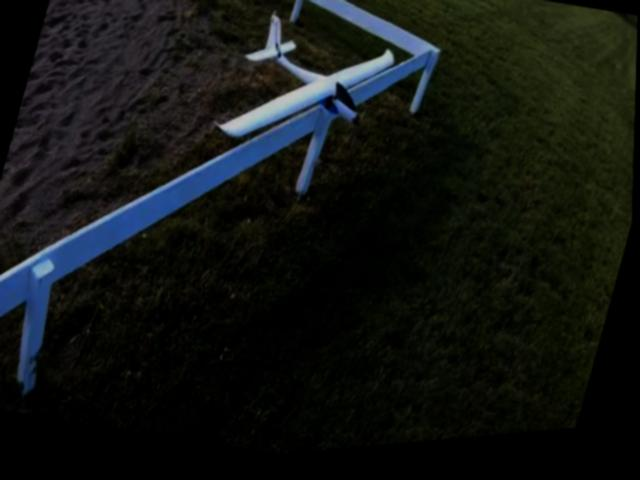iha: (207, 0, 406, 181)
